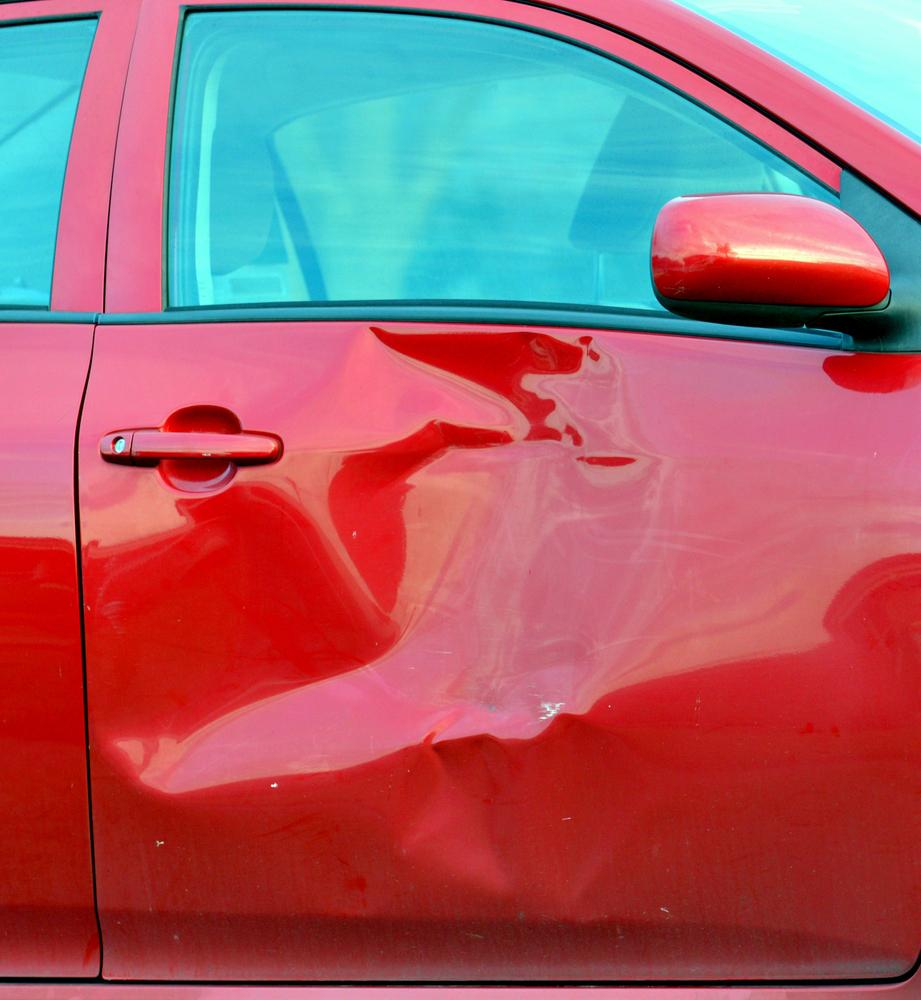dent: (78, 321, 669, 895)
